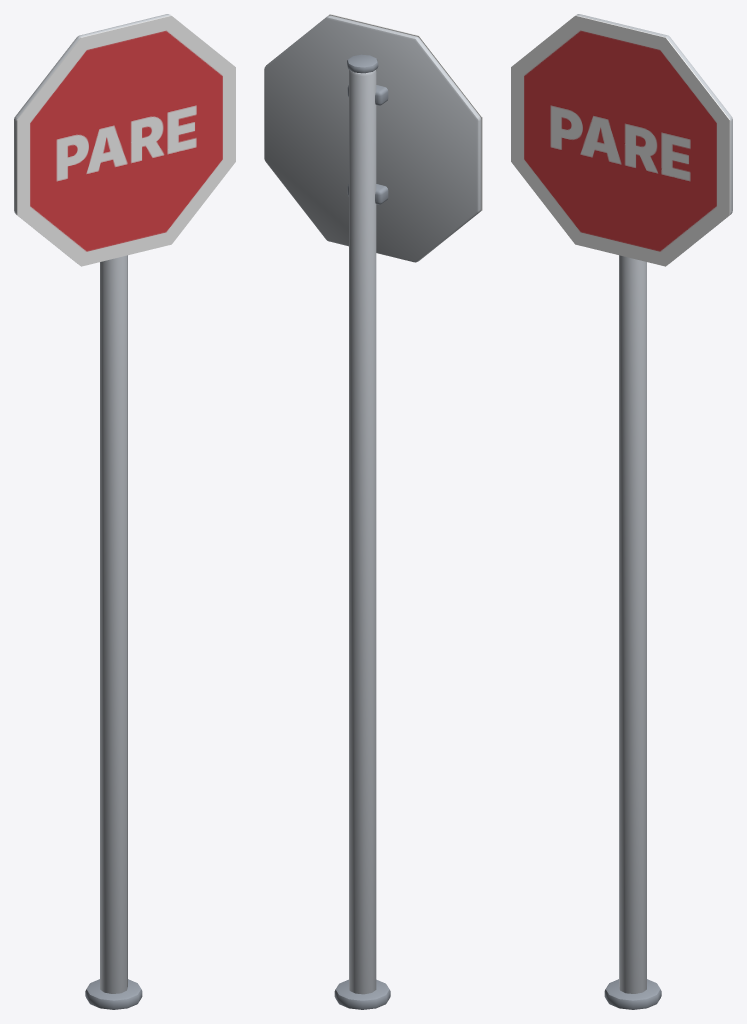
File: placa_pare.glb
3 renders of one model, left to right at view 1: azimuth 30°, elevation 25°; view 2: azimuth 150°, elevation 25°; view 3: azimuth 330°, elevation 25°, orthographic.
Visible parts, largest first — view 1: placa_pare; view 2: placa_pare; view 3: placa_pare.
Boxes of the visible parts, left/top/right/bottom form: placa_pare: left=14, top=14, right=235, bottom=1009; placa_pare: left=264, top=14, right=482, bottom=1009; placa_pare: left=511, top=14, right=732, bottom=1009.
Bounding box in the file's own units: 0.62 × 2.66 × 0.14.
2 materials, 2 textured.
